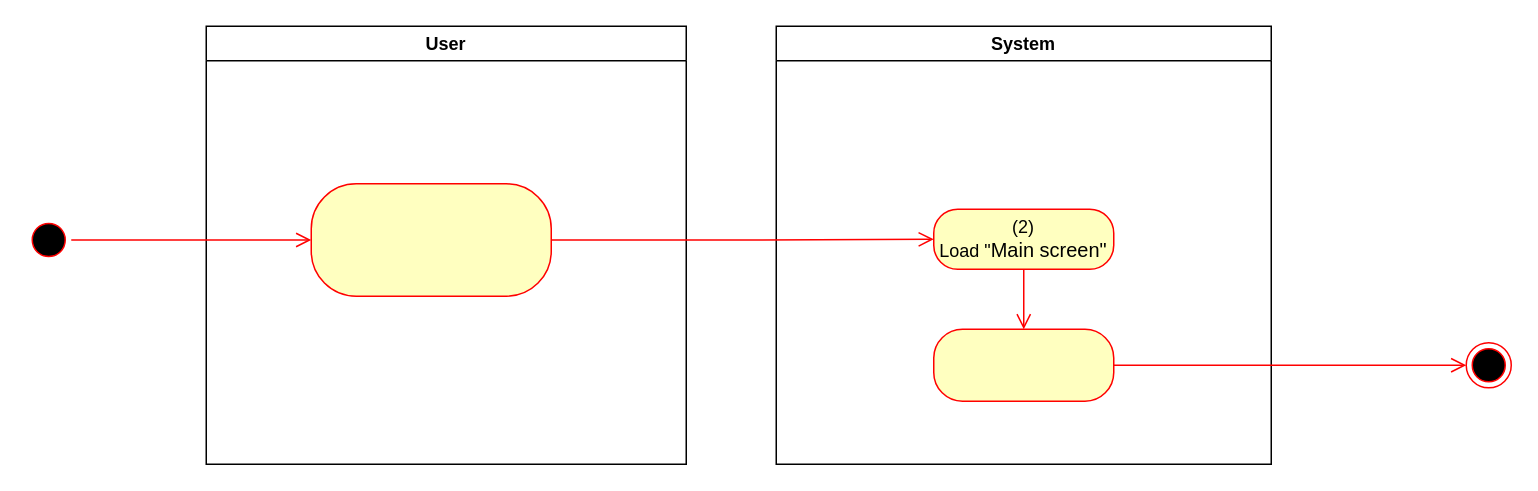
The diagram is 1538 pixels wide and 491 high, and some of its shapes have lost their labels. The shapes that lost their labels are listed below. From the top down, each one's centre as x and y in pixels, then its label:
At (x=430, y=239): "(1) Make login success".
At (x=1023, y=364): "(3) Load advertising not overdue".
